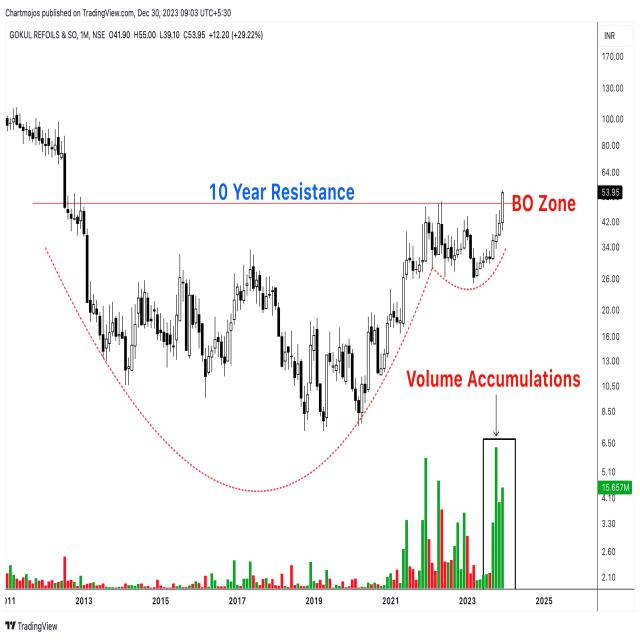Cup-and-handle: (54, 194, 521, 442)
